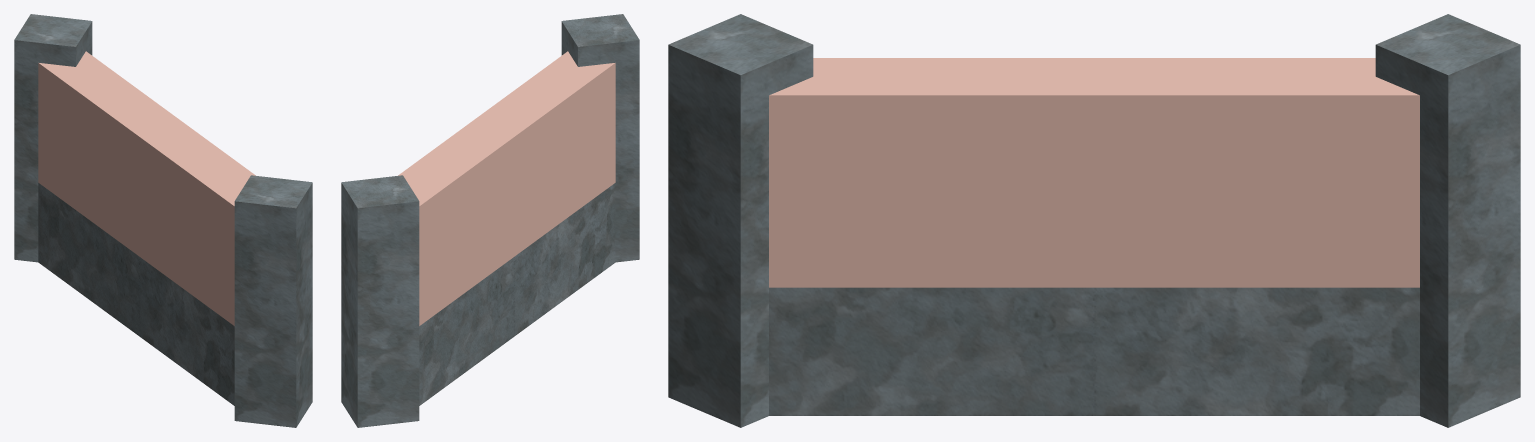
File: halfwalll.fbx
3 views of the same model, side by side, from view 1: azimuth 30°, elevation 25°; view 2: azimuth 150°, elevation 25°; view 3: azimuth 270°, elevation 25° (orthographic). The views are drawn at different scales.
Parts seen in each view (by area): view 1: wall_edgesHalfBorder; view 2: wall_edgesHalfBorder; view 3: wall_edgesHalfBorder.
Boxes of the visible parts, x1=… form: wall_edgesHalfBorder: x1=14, y1=14, x2=312, y2=427; wall_edgesHalfBorder: x1=341, y1=14, x2=639, y2=427; wall_edgesHalfBorder: x1=668, y1=14, x2=1520, y2=427.
Size of the model in its own units: 2.05 by 5.5 by 12.05.
2 materials, 1 textured.
